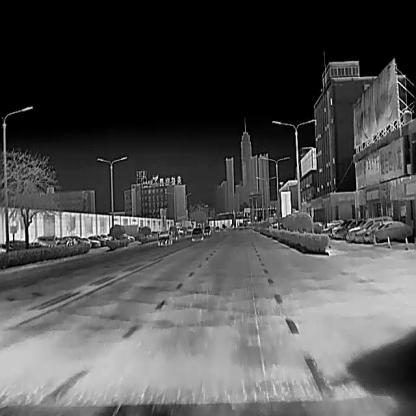car: (346, 215, 392, 240), (364, 220, 411, 242), (354, 221, 387, 242), (332, 218, 352, 238), (346, 217, 365, 237), (157, 229, 172, 245), (82, 236, 99, 247), (89, 234, 106, 245), (95, 233, 110, 245), (191, 227, 203, 240), (203, 225, 210, 234), (215, 225, 219, 231)
